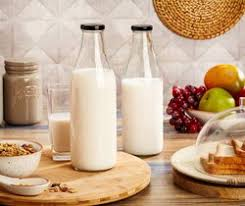milk: (62, 18, 115, 173), (118, 15, 166, 141)
